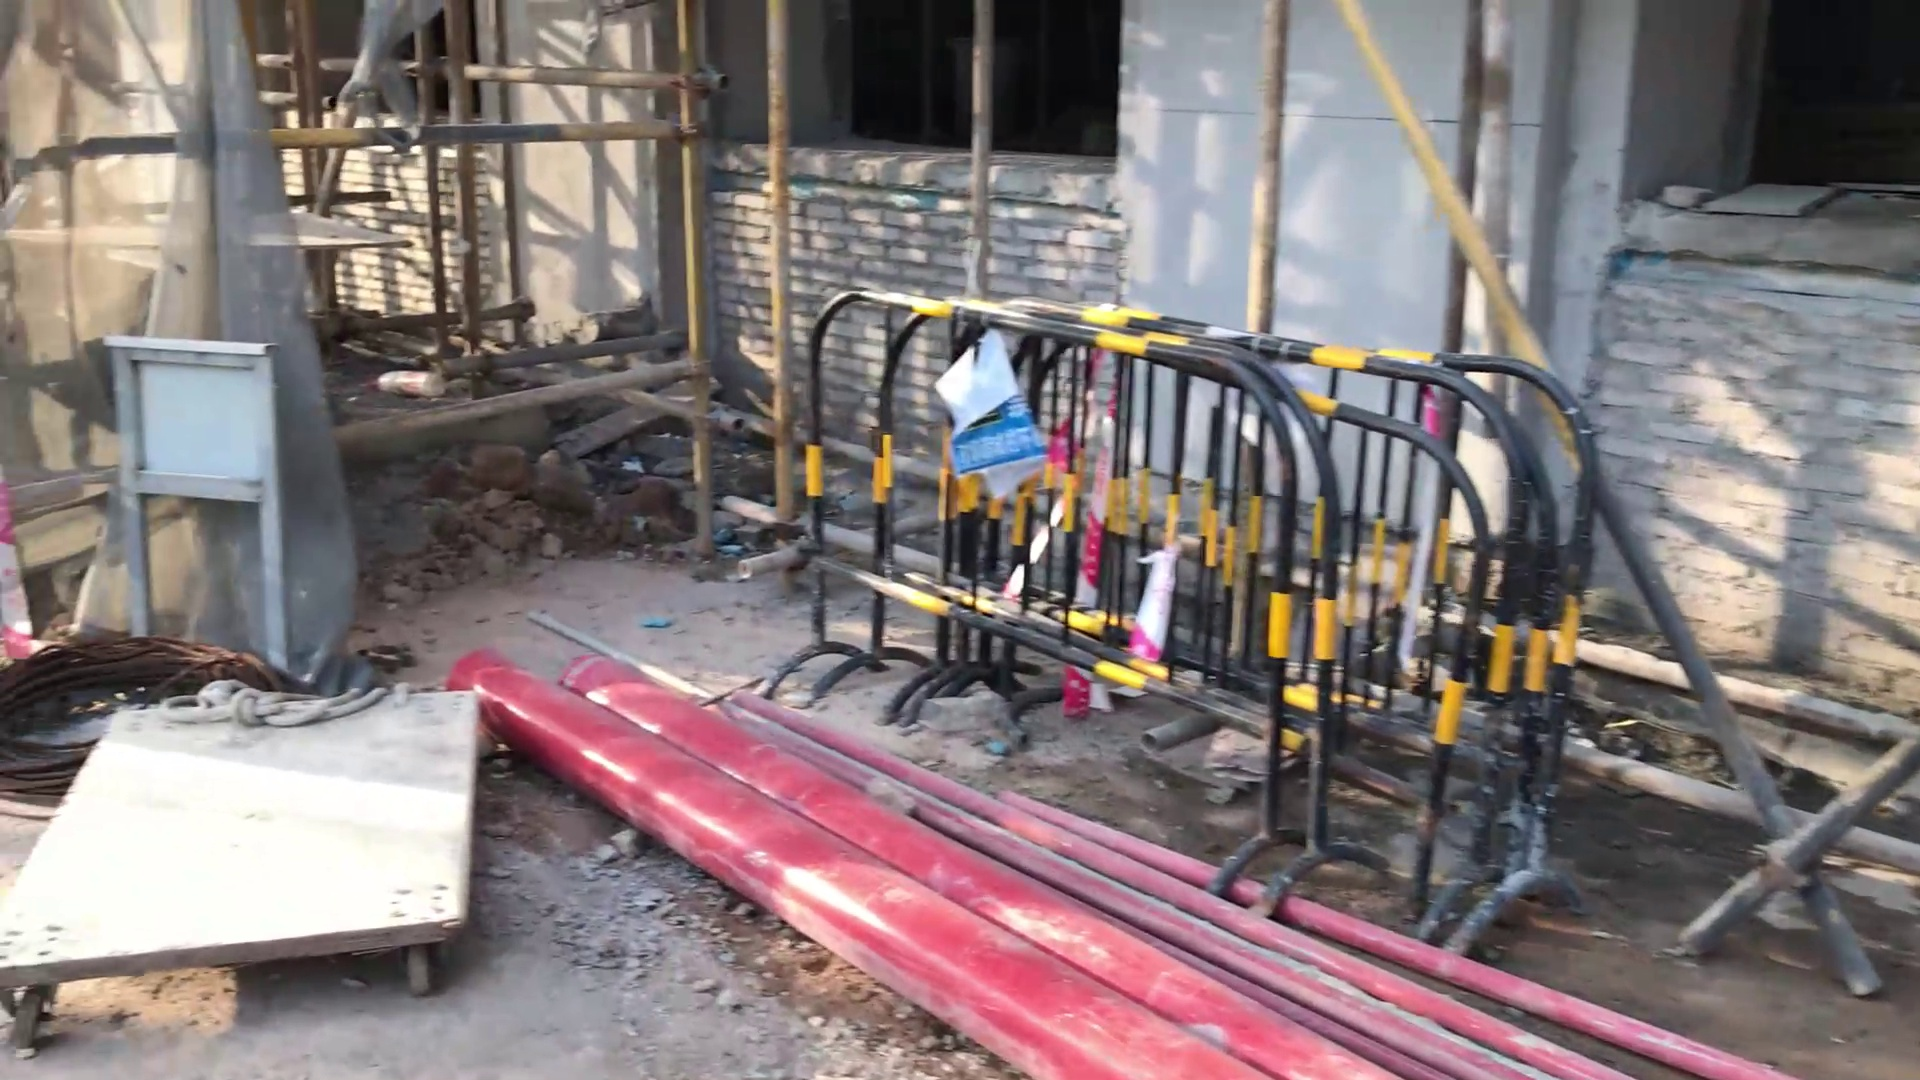fence: (753, 282, 1598, 963)
